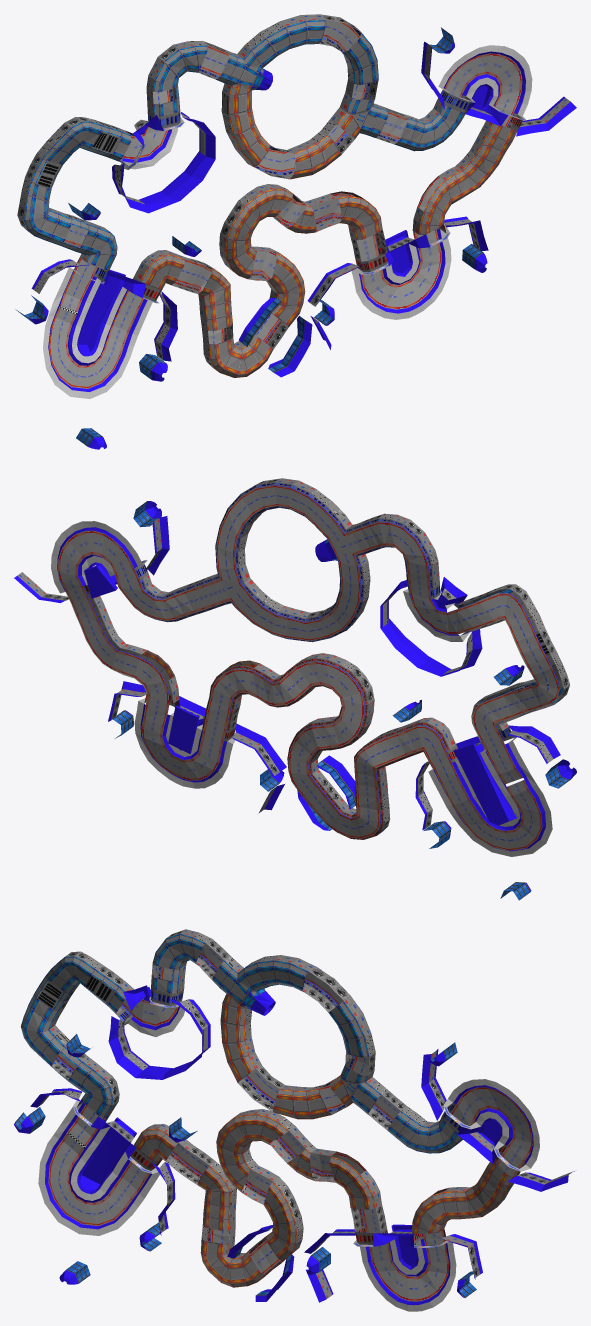
Rendered from RRTRACK.GDB.obj.
3 renders of one model, top to bottom at view 1: azimuth 30°, elevation 25°; view 2: azimuth 150°, elevation 25°; view 3: azimuth 330°, elevation 25°, orthographic.
Size of the model in its own units: 1588 by 1007 by 147.
Materials: 18 (17 with a texture image).
